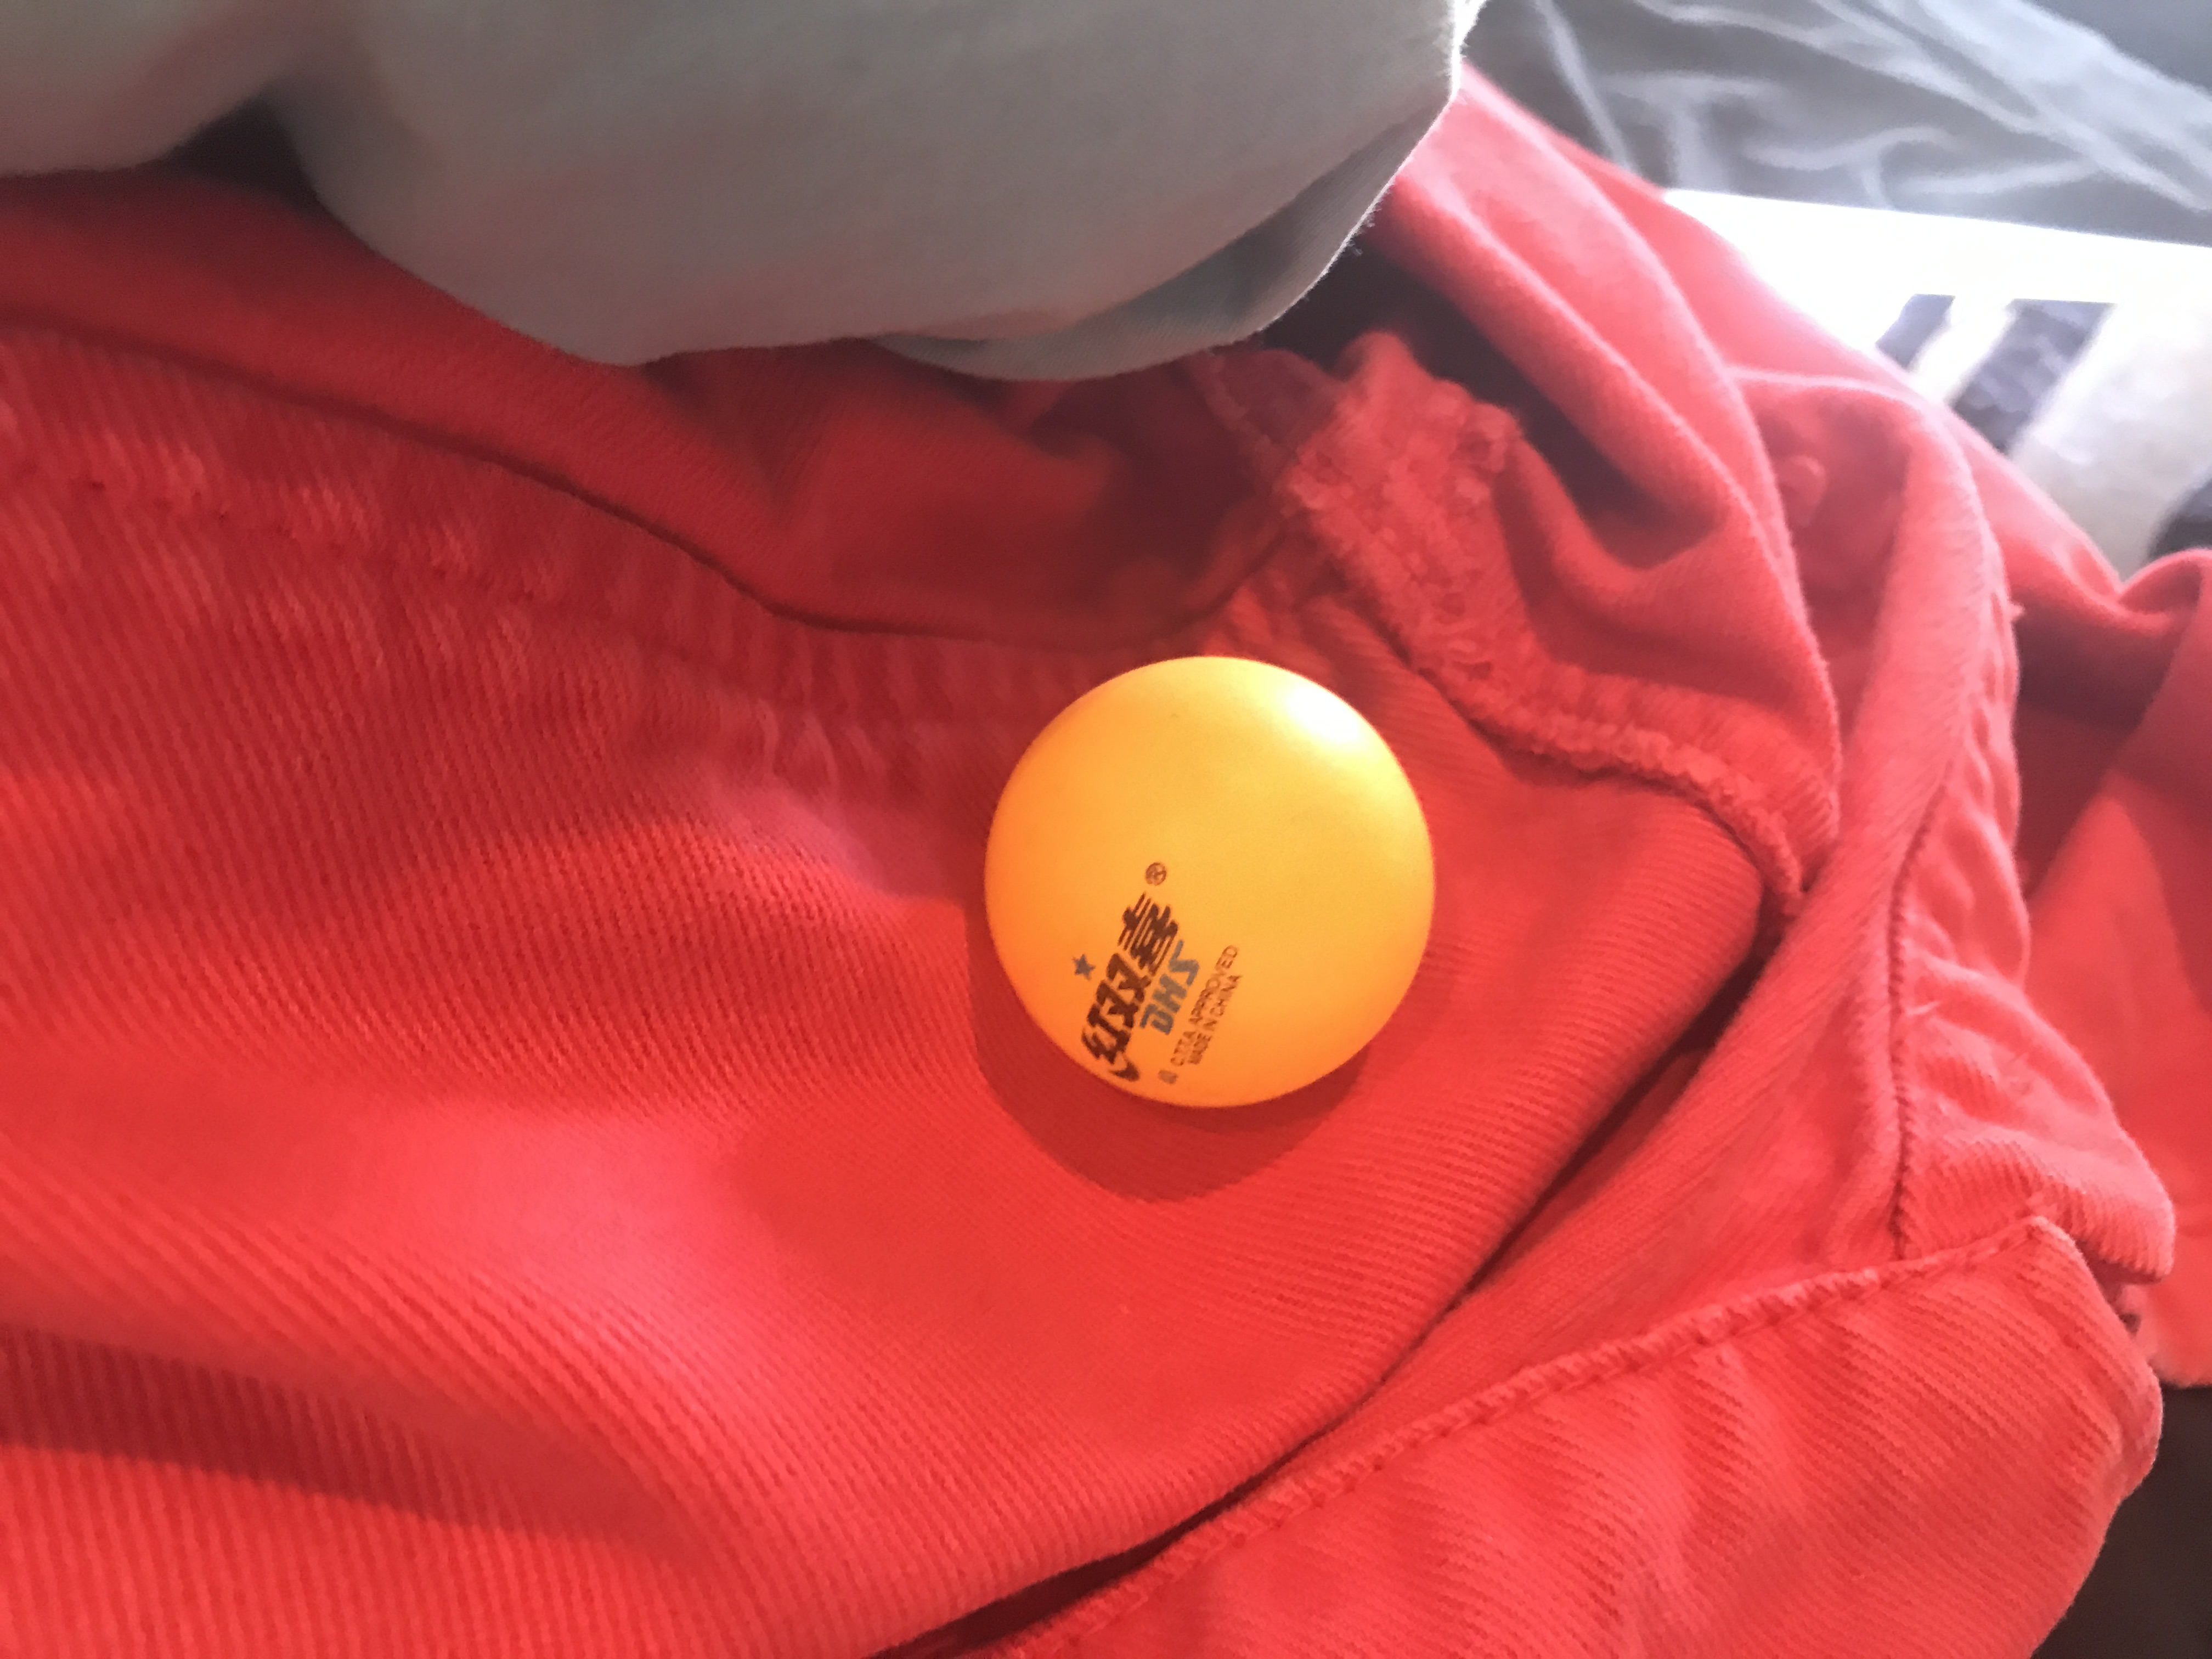pp: (968, 657, 1439, 1107)
